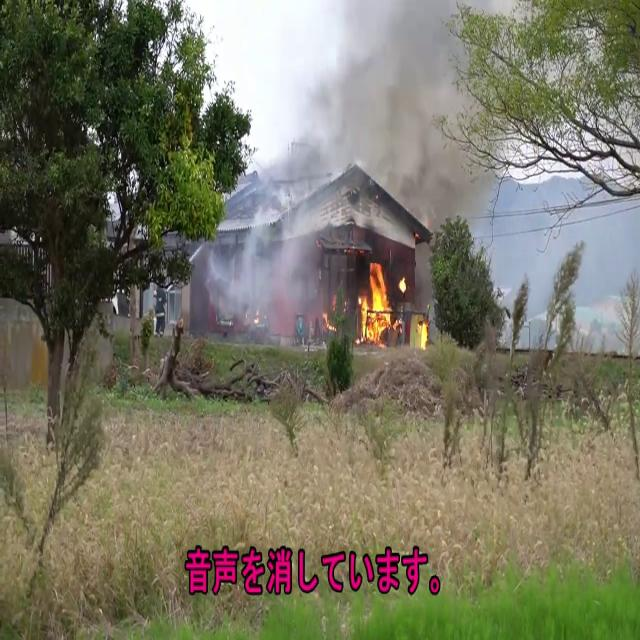Fire: (353, 259, 401, 345)
Smoke: (278, 0, 486, 222), (202, 109, 342, 337)
